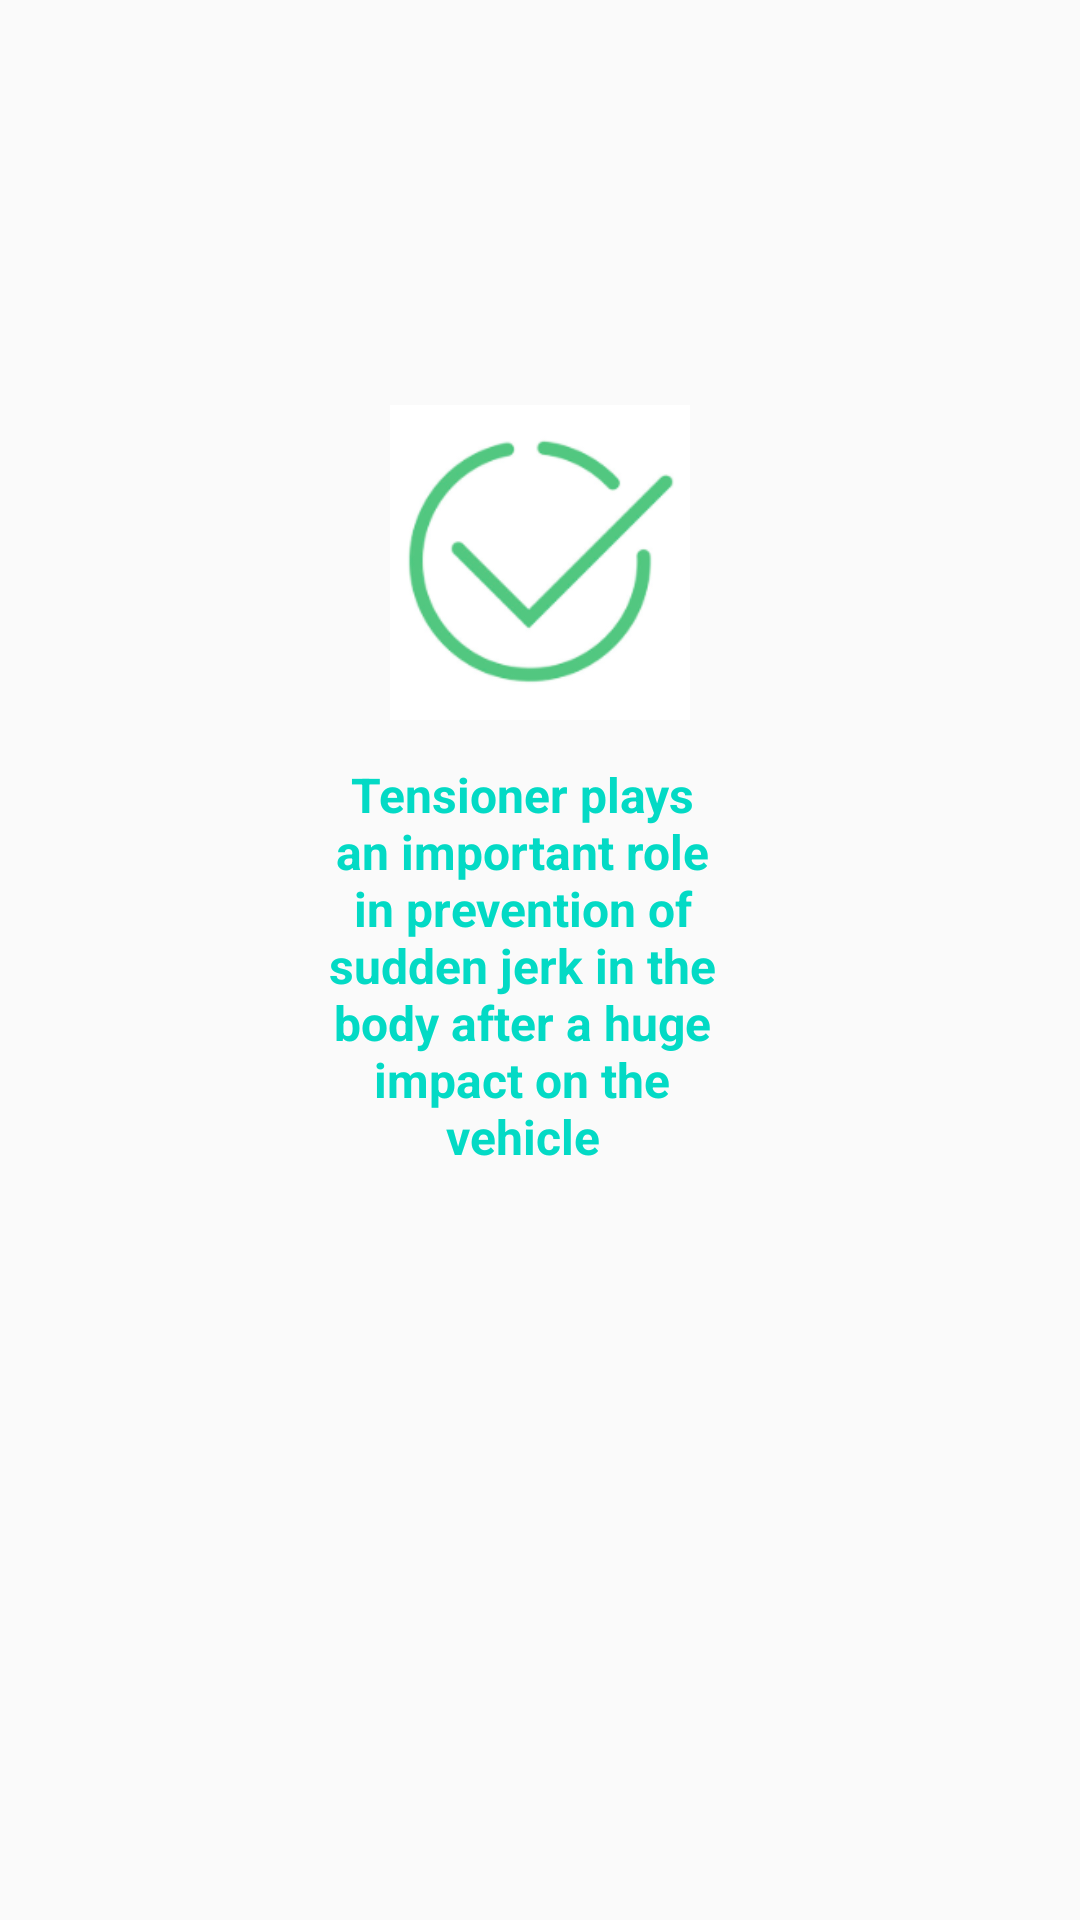

Icons on this 1080 x 1920 Android screen, each with the point to tap as [x,y]:
tick: [541,561]
